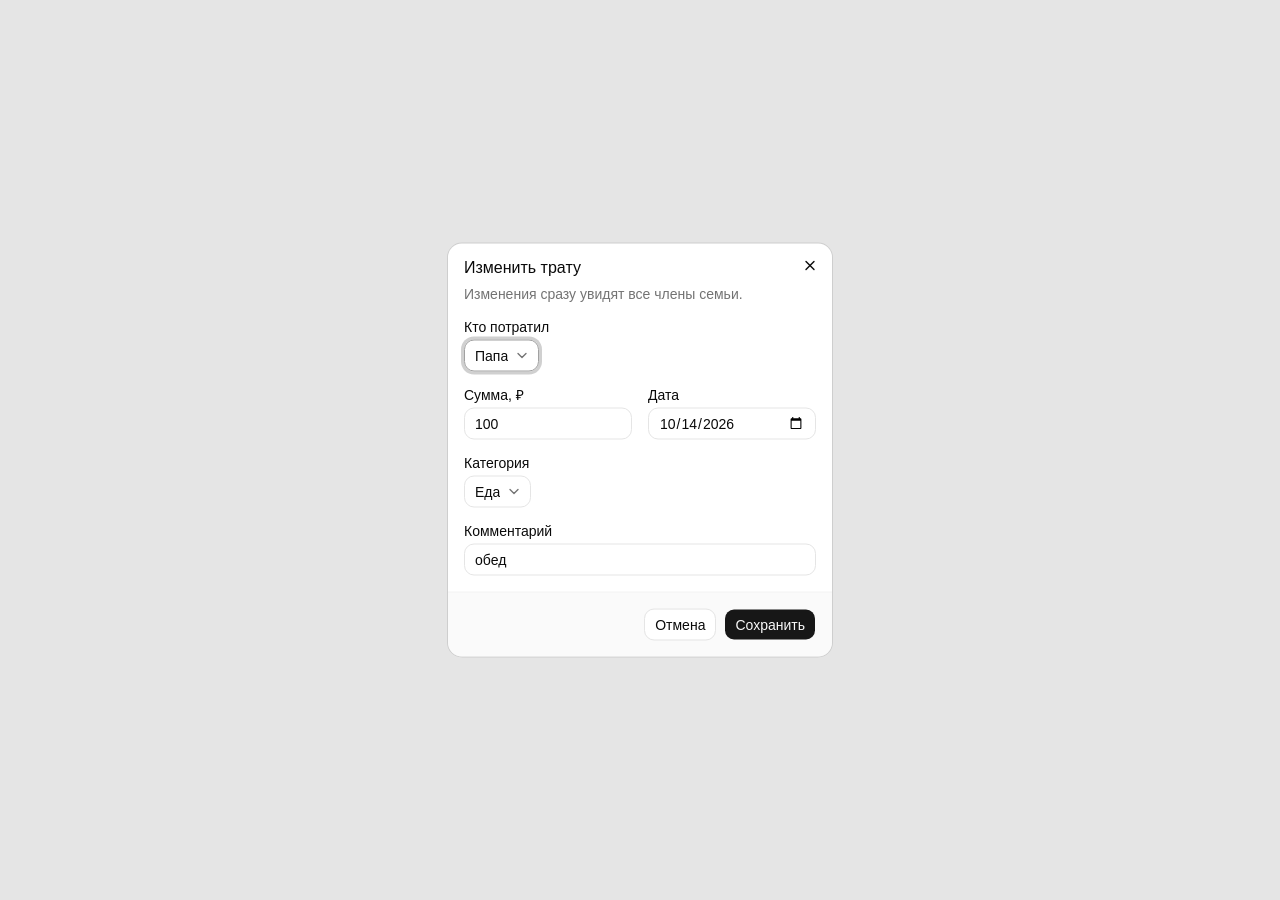
ExpenseDialog async results › applies a conflict reload to the expense it was made for
The image size is (1280, 900).
Replace the text in the field labelled "Сумма, ₽" with "150" at (548, 424), box x1=464 y1=408 x2=632 y2=440
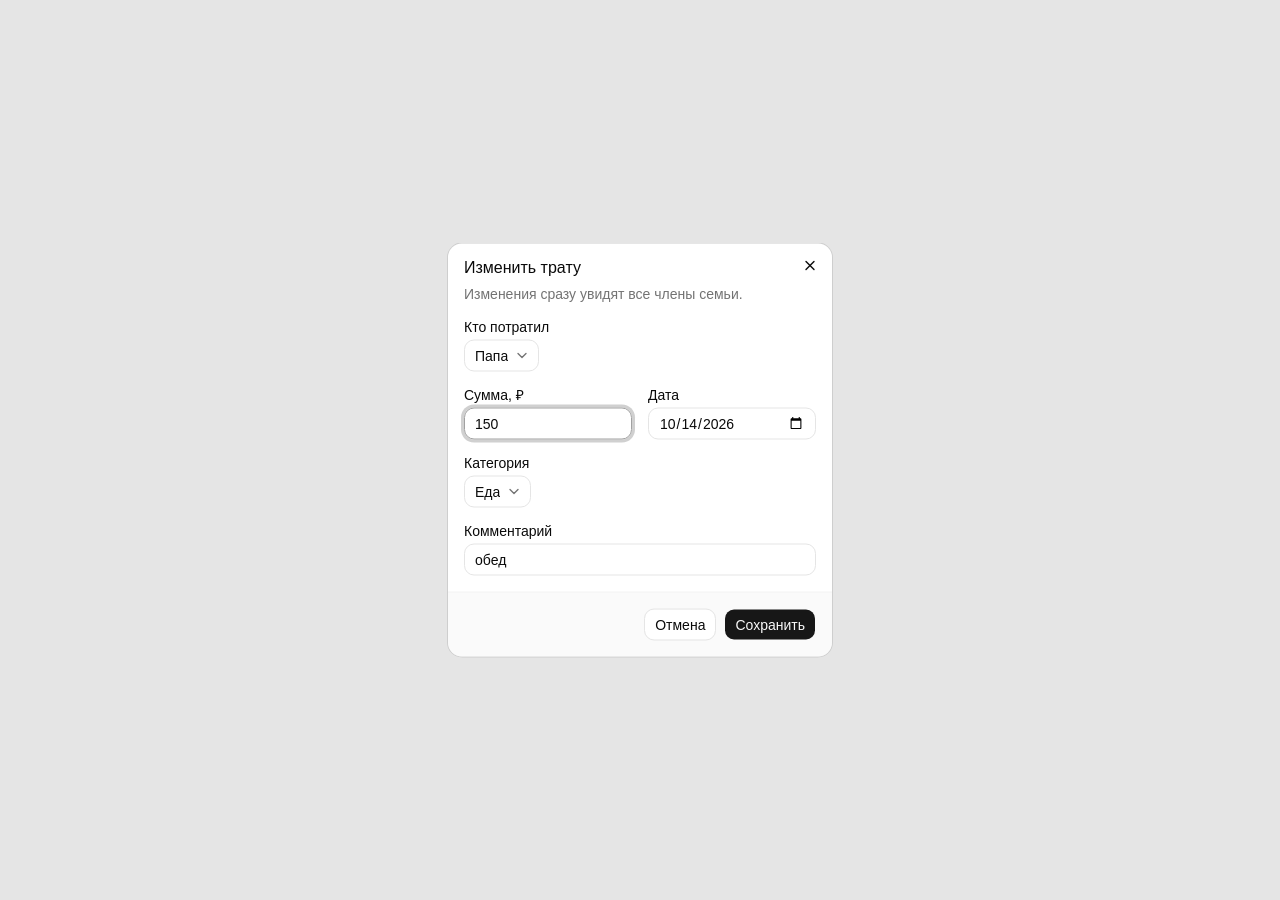
Click the button "Сохранить" at (770, 624), box x1=724 y1=608 x2=816 y2=640
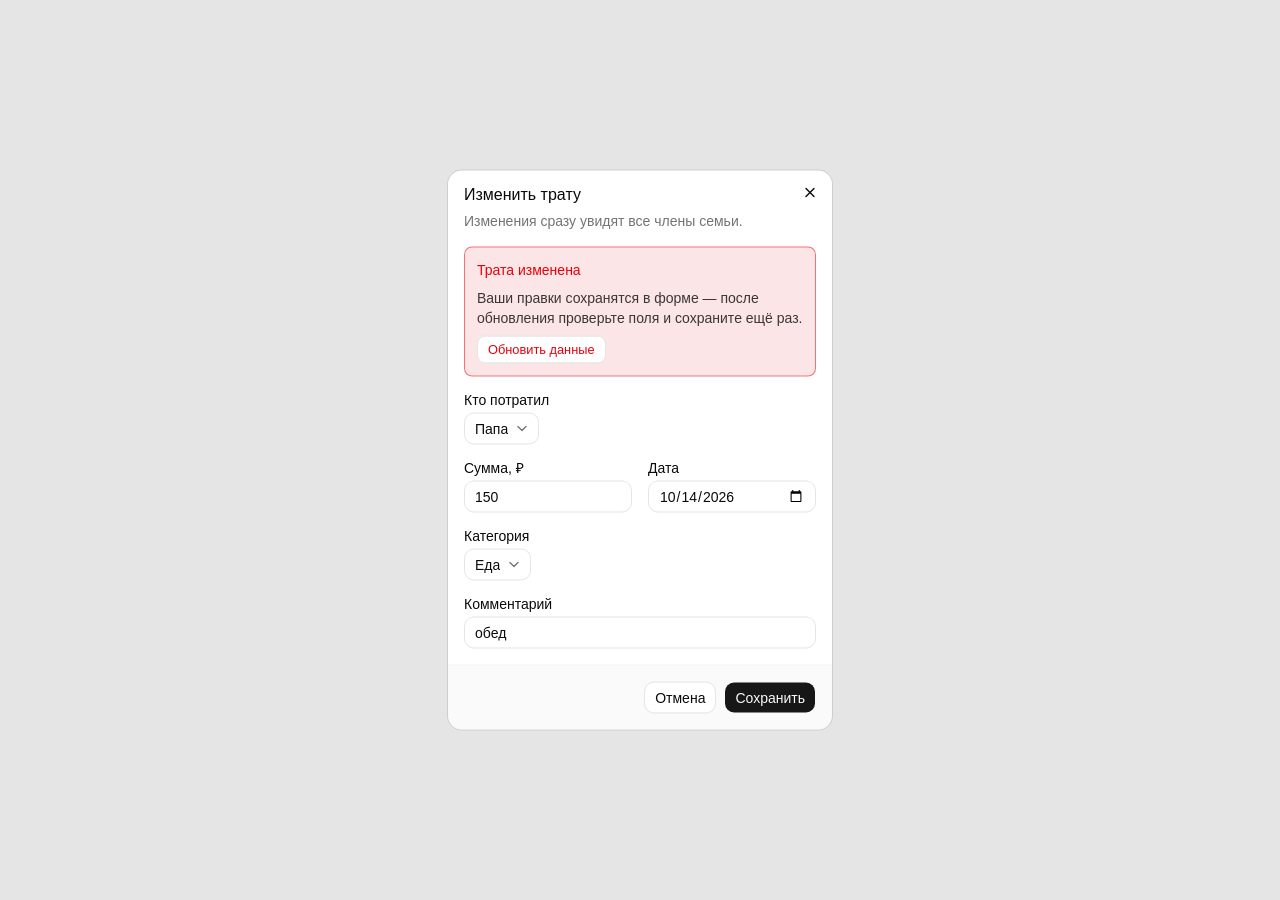
Click the button "Обновить данные" at (541, 350), box x1=477 y1=336 x2=606 y2=364
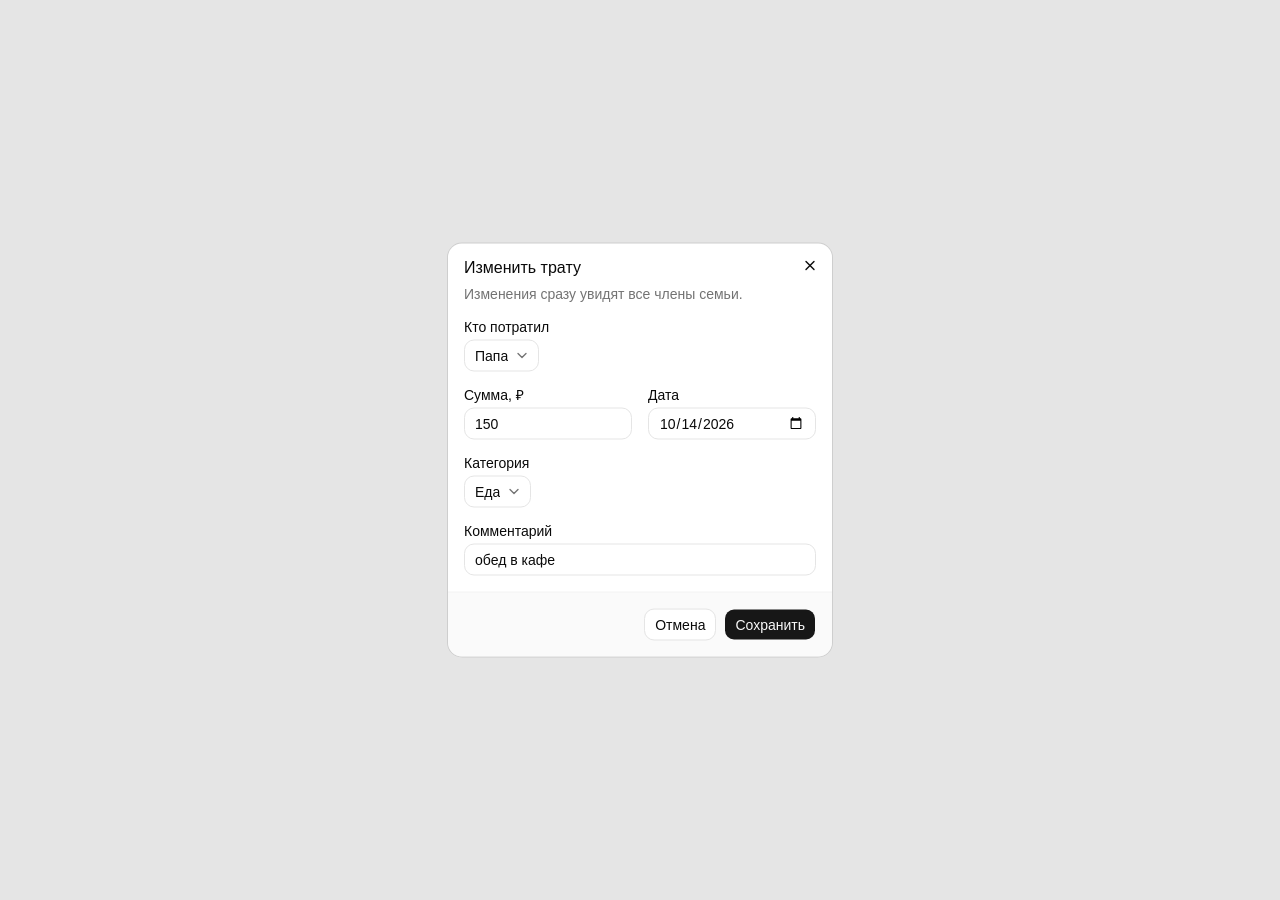
Check: the field labelled "Комментарий" holds "обед в кафе", box x1=464 y1=544 x2=816 y2=576
